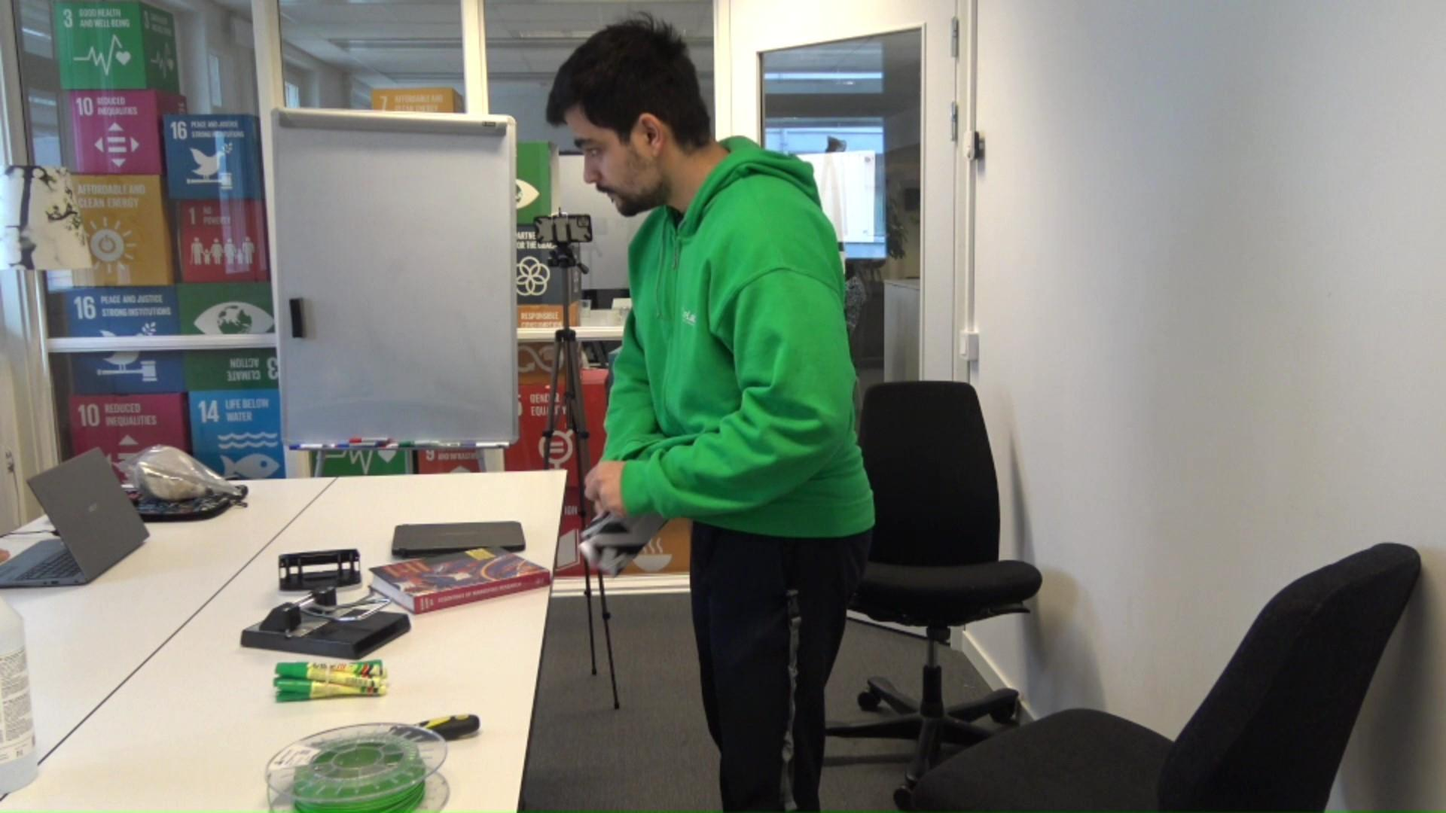shoplifting: (556, 29, 882, 813)
